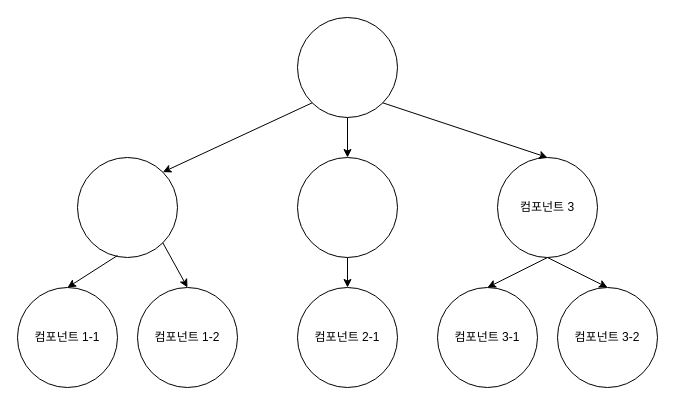
Some shapes in this 675 by 405 pixel diagram are drawn without their labels. Each missing label, with the box of its shape:
컴포넌트 1: (76, 156, 178, 258)
컴포넌트 2: (296, 156, 398, 258)
컴포넌트 루트: (296, 16, 398, 118)
